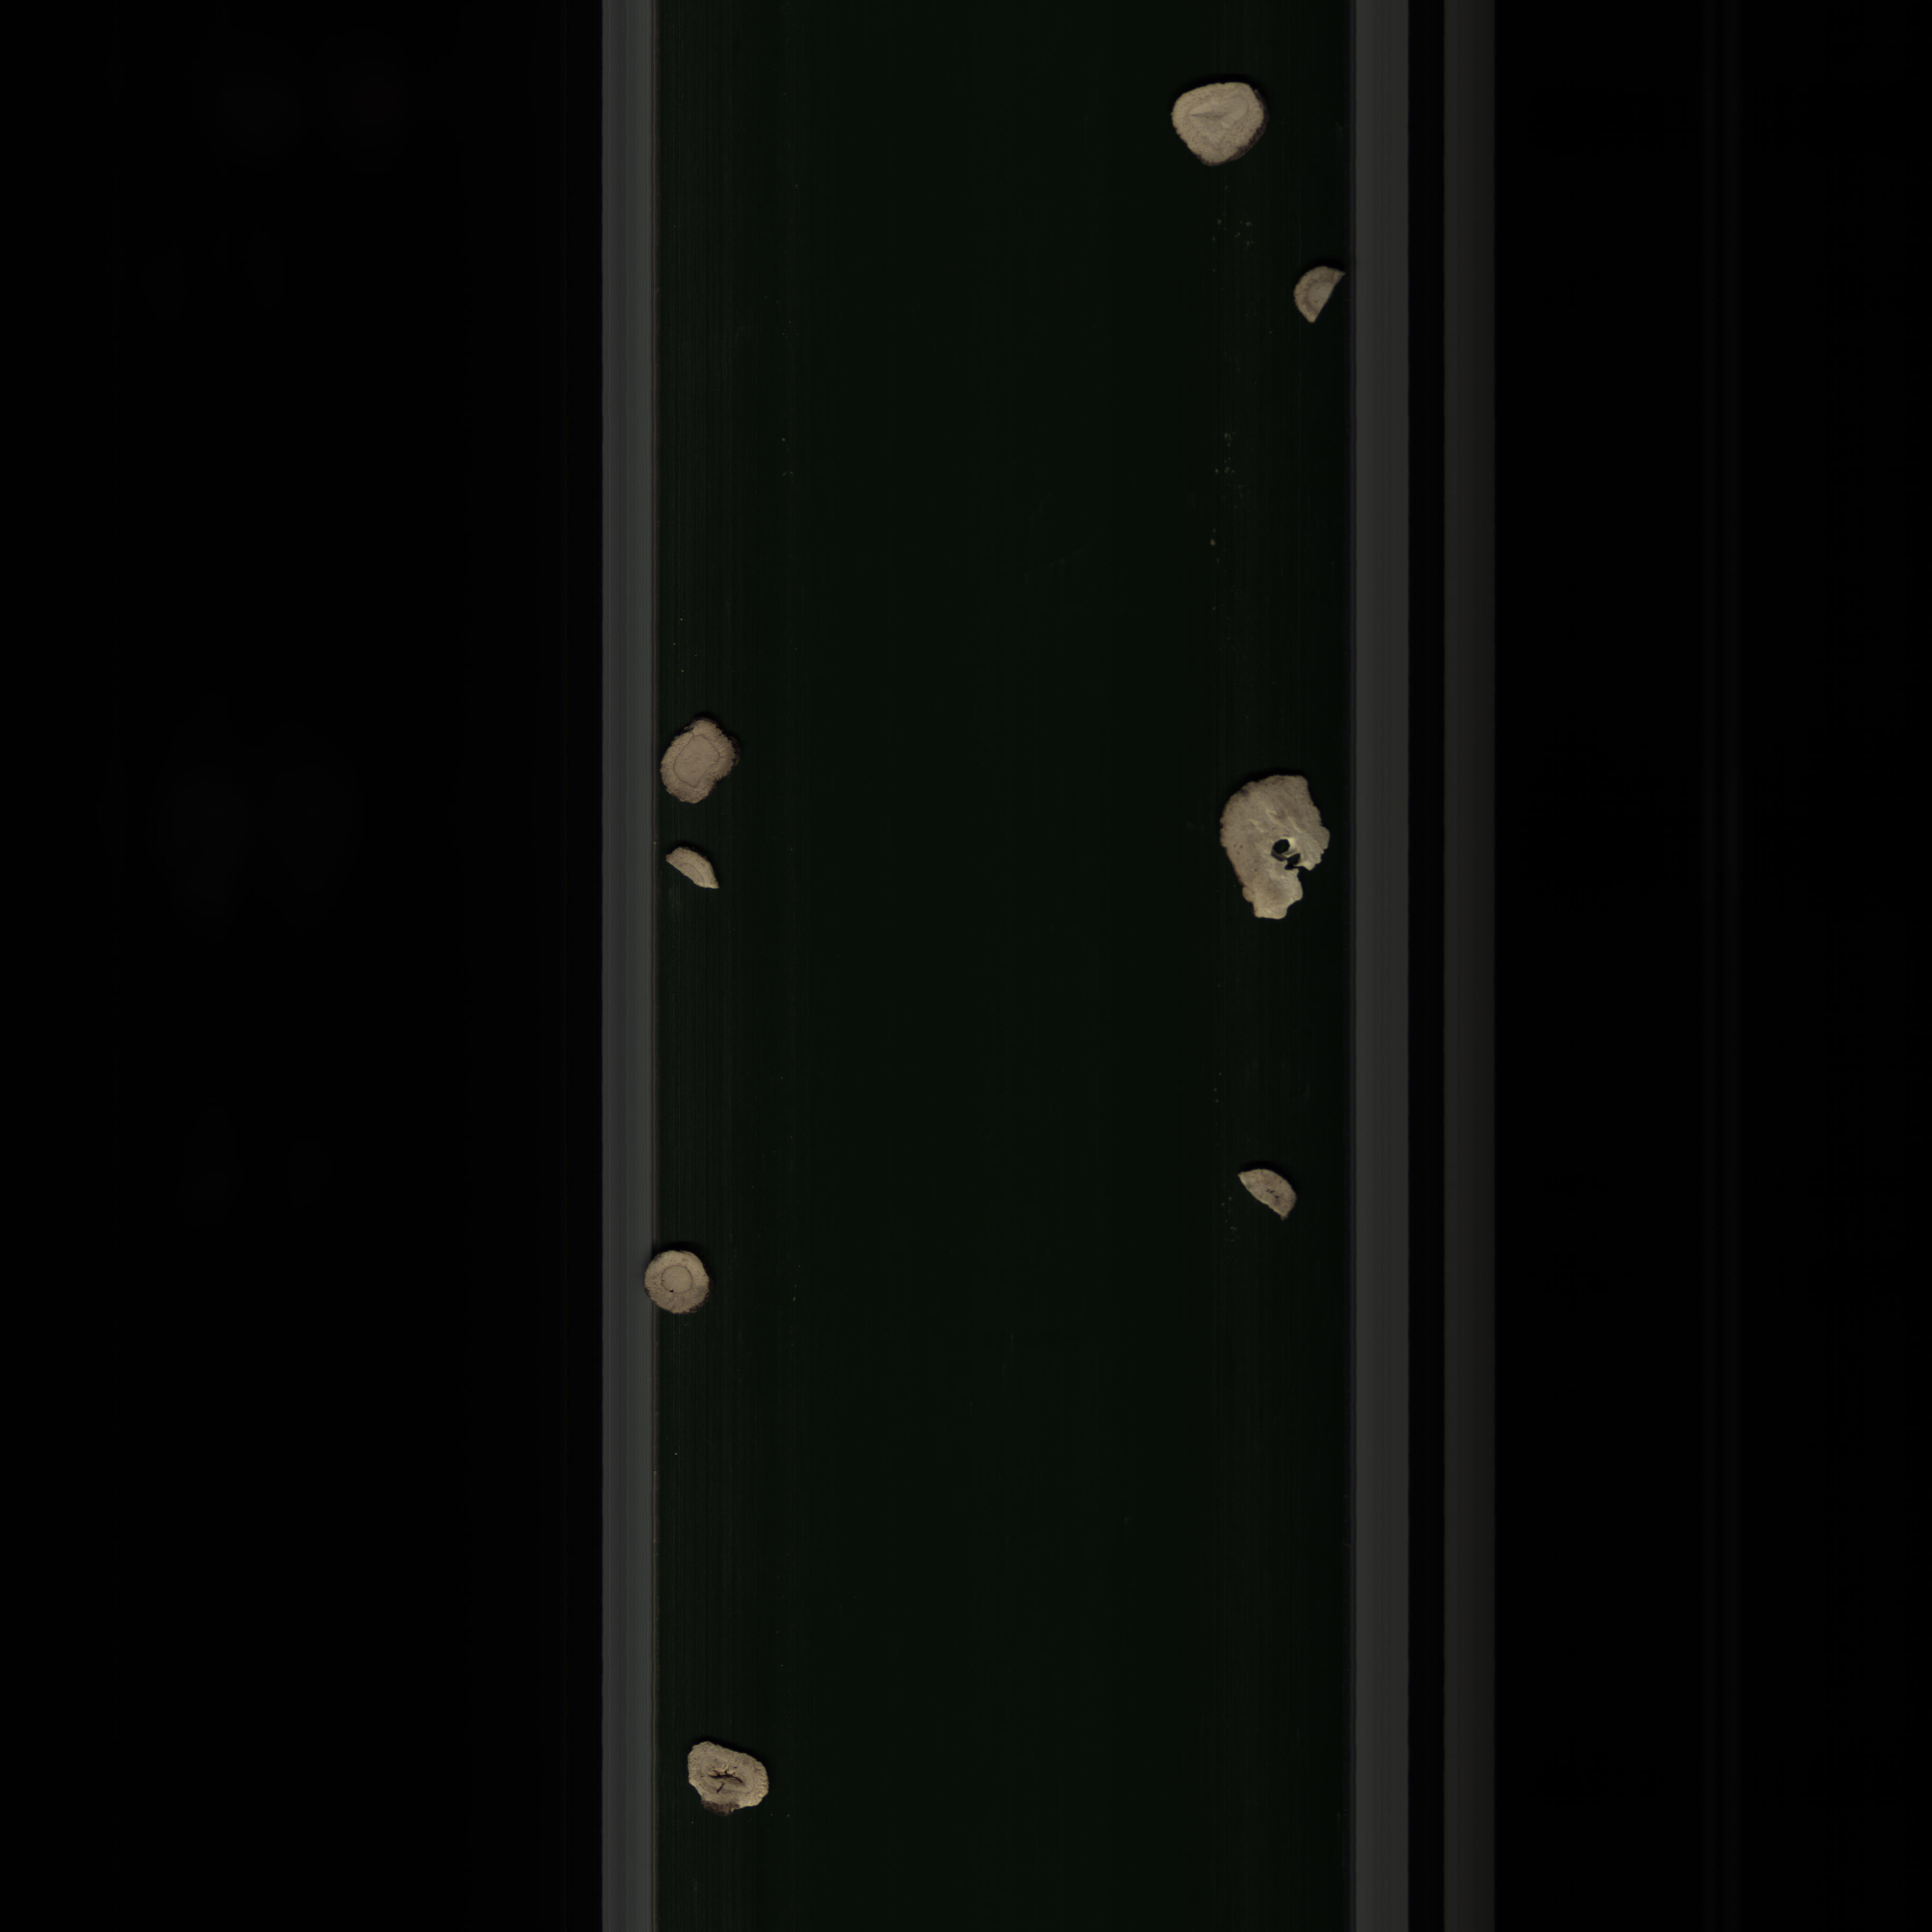debris: (1214, 764, 1343, 939), (665, 835, 745, 911), (1223, 1159, 1306, 1226)
hole: (685, 1729, 786, 1826)
